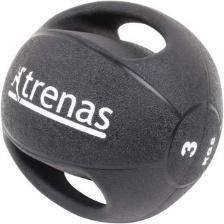Sports-Ball: (4, 2, 224, 223)
